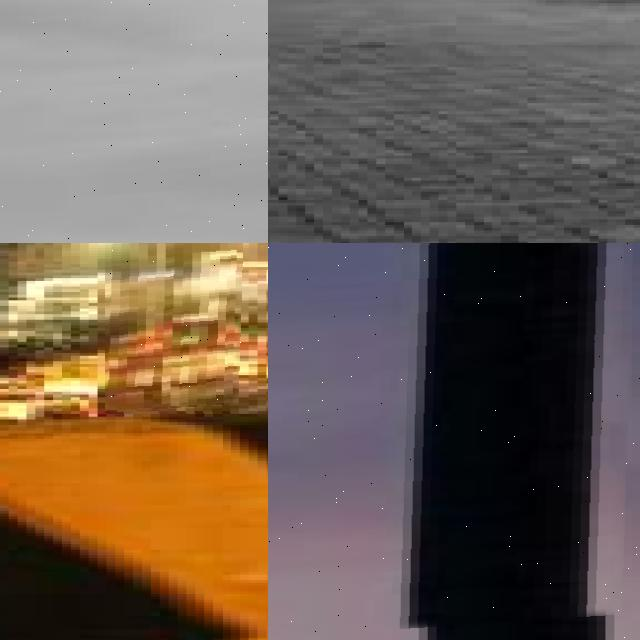street light: (268, 243, 640, 640), (0, 0, 268, 243), (105, 243, 245, 413)
